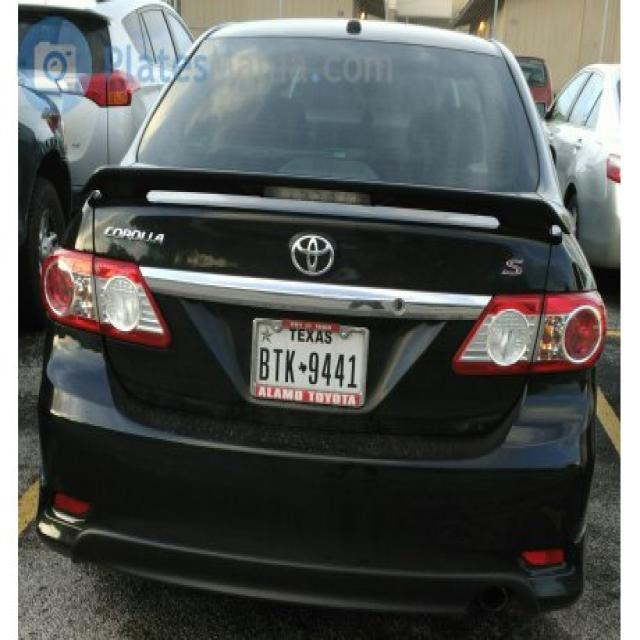license: (252, 310, 374, 420)
